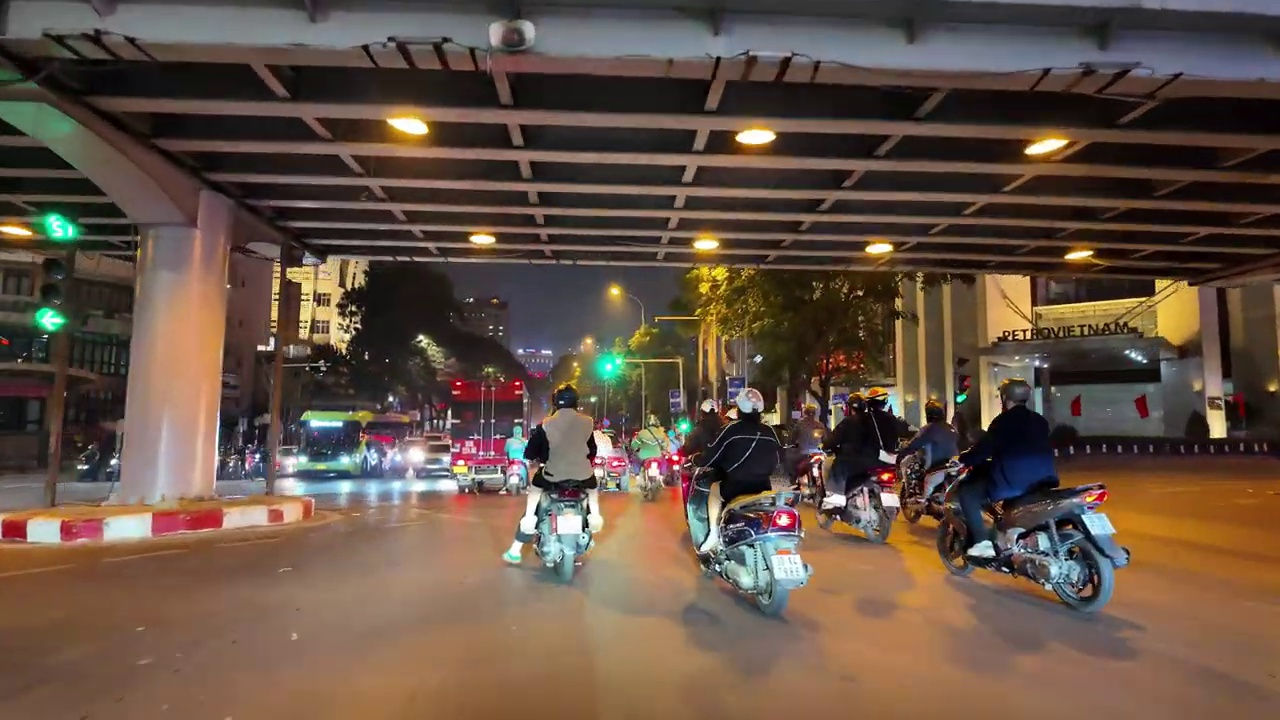acesa: (603, 280, 628, 310)
